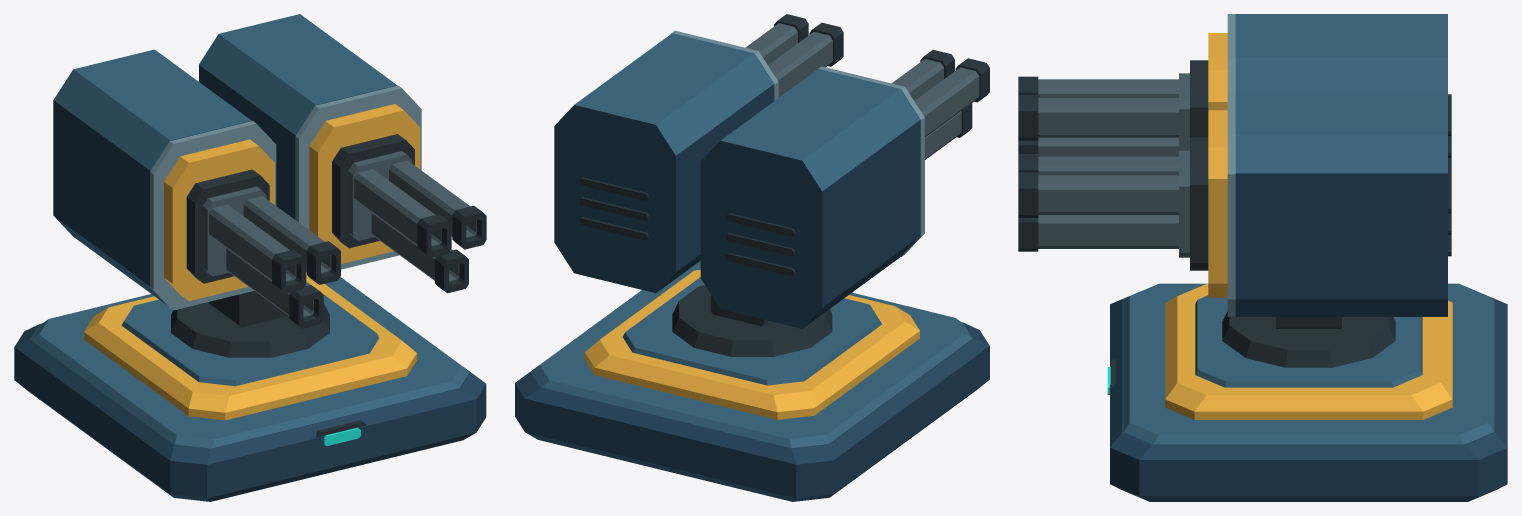
File: MachineGunLevel2.obj
The picture shows the model from 3 angles, left to right: view 1: azimuth 30°, elevation 25°; view 2: azimuth 150°, elevation 25°; view 3: azimuth 270°, elevation 25°; orthographic projection. The views are drawn at different scales.
Parts seen in each view (by area): view 1: SquareFoundation, SquareTop, RaisedGoldFrame, UpperArmorLeft, UpperArmorRight, HousingLeft, RaisedInnerDeck, GoldMantletLeft, GoldMantletRight, Turntable, FrontRimLeft, FrontRimRight (+18 smaller); view 2: HousingLeft, SquareFoundation, HousingRight, SquareTop, RaisedGoldFrame, UpperArmorRight, UpperArmorLeft, RaisedInnerDeck, Turntable, Barrel0Left, Barrel0Right, Barrel1Right (+12 smaller); view 3: HousingRight, SquareFoundation, SquareTop, UpperArmorRight, UpperArmorLeft, RaisedGoldFrame, RaisedInnerDeck, Turntable, Barrel1Left, Barrel1Right, Barrel2Right, GoldMantletRight (+14 smaller).
Boxes of the visible parts, x1,y1,x2,y2 form: SquareFoundation: (14,323,486,501); SquareTop: (31,277,469,448); RaisedGoldFrame: (84,272,416,420); UpperArmorLeft: (53,49,251,170); UpperArmorRight: (199,14,396,135); HousingLeft: (53,100,251,305); RaisedInnerDeck: (121,282,379,386); GoldMantletLeft: (164,139,274,301); GoldMantletRight: (309,104,420,263); Turntable: (171,302,329,357); FrontRimLeft: (150,121,276,310); FrontRimRight: (295,85,421,269); HousingLeft: (700,120,920,328); SquareFoundation: (515,322,989,501); HousingRight: (554,84,773,293); SquareTop: (532,261,972,448); RaisedGoldFrame: (584,269,919,419); UpperArmorRight: (574,33,773,155); UpperArmorLeft: (721,69,919,191); RaisedInnerDeck: (623,277,881,385); Turntable: (672,285,832,356); Barrel0Left: (914,67,979,137); Barrel0Right: (768,31,832,97); Barrel1Right: (745,23,797,64); HousingRight: (1235,173,1447,316); SquareFoundation: (1110,296,1507,501); SquareTop: (1123,283,1494,444); UpperArmorRight: (1235,91,1447,173); UpperArmorLeft: (1235,14,1447,91); RaisedGoldFrame: (1165,284,1452,419); RaisedInnerDeck: (1195,295,1422,387); Turntable: (1222,311,1395,367); Barrel1Left: (1038,98,1178,137); Barrel1Right: (1038,175,1178,214); Barrel2Right: (1038,215,1178,248); GoldMantletRight: (1208,110,1227,297).
Bounding box in the file's own units: 2.17 × 2.1 × 2.68.
